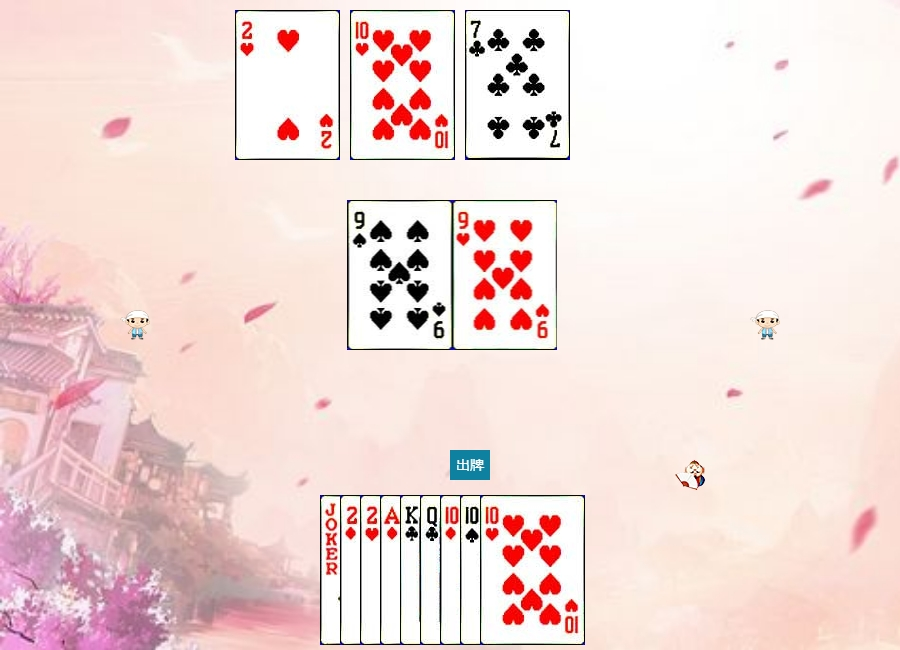10~1: (440, 495, 545, 645)
10~3: (350, 10, 455, 160), (480, 495, 585, 645)
10~4: (460, 495, 565, 645)
12~2: (420, 495, 525, 645)
13~2: (400, 495, 505, 645)
14~1: (380, 495, 485, 645)
15~1: (340, 495, 445, 645)
15~3: (235, 10, 340, 160), (360, 495, 465, 645)
18~4: (320, 495, 425, 645)
7~2: (465, 10, 570, 160)
9~3: (453, 200, 558, 350)
9~4: (348, 200, 453, 350)
